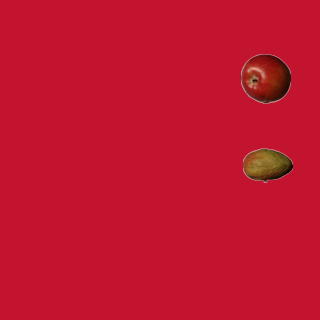Apple Braeburn: (240, 53, 290, 103)
Papaya: (242, 140, 292, 190)
